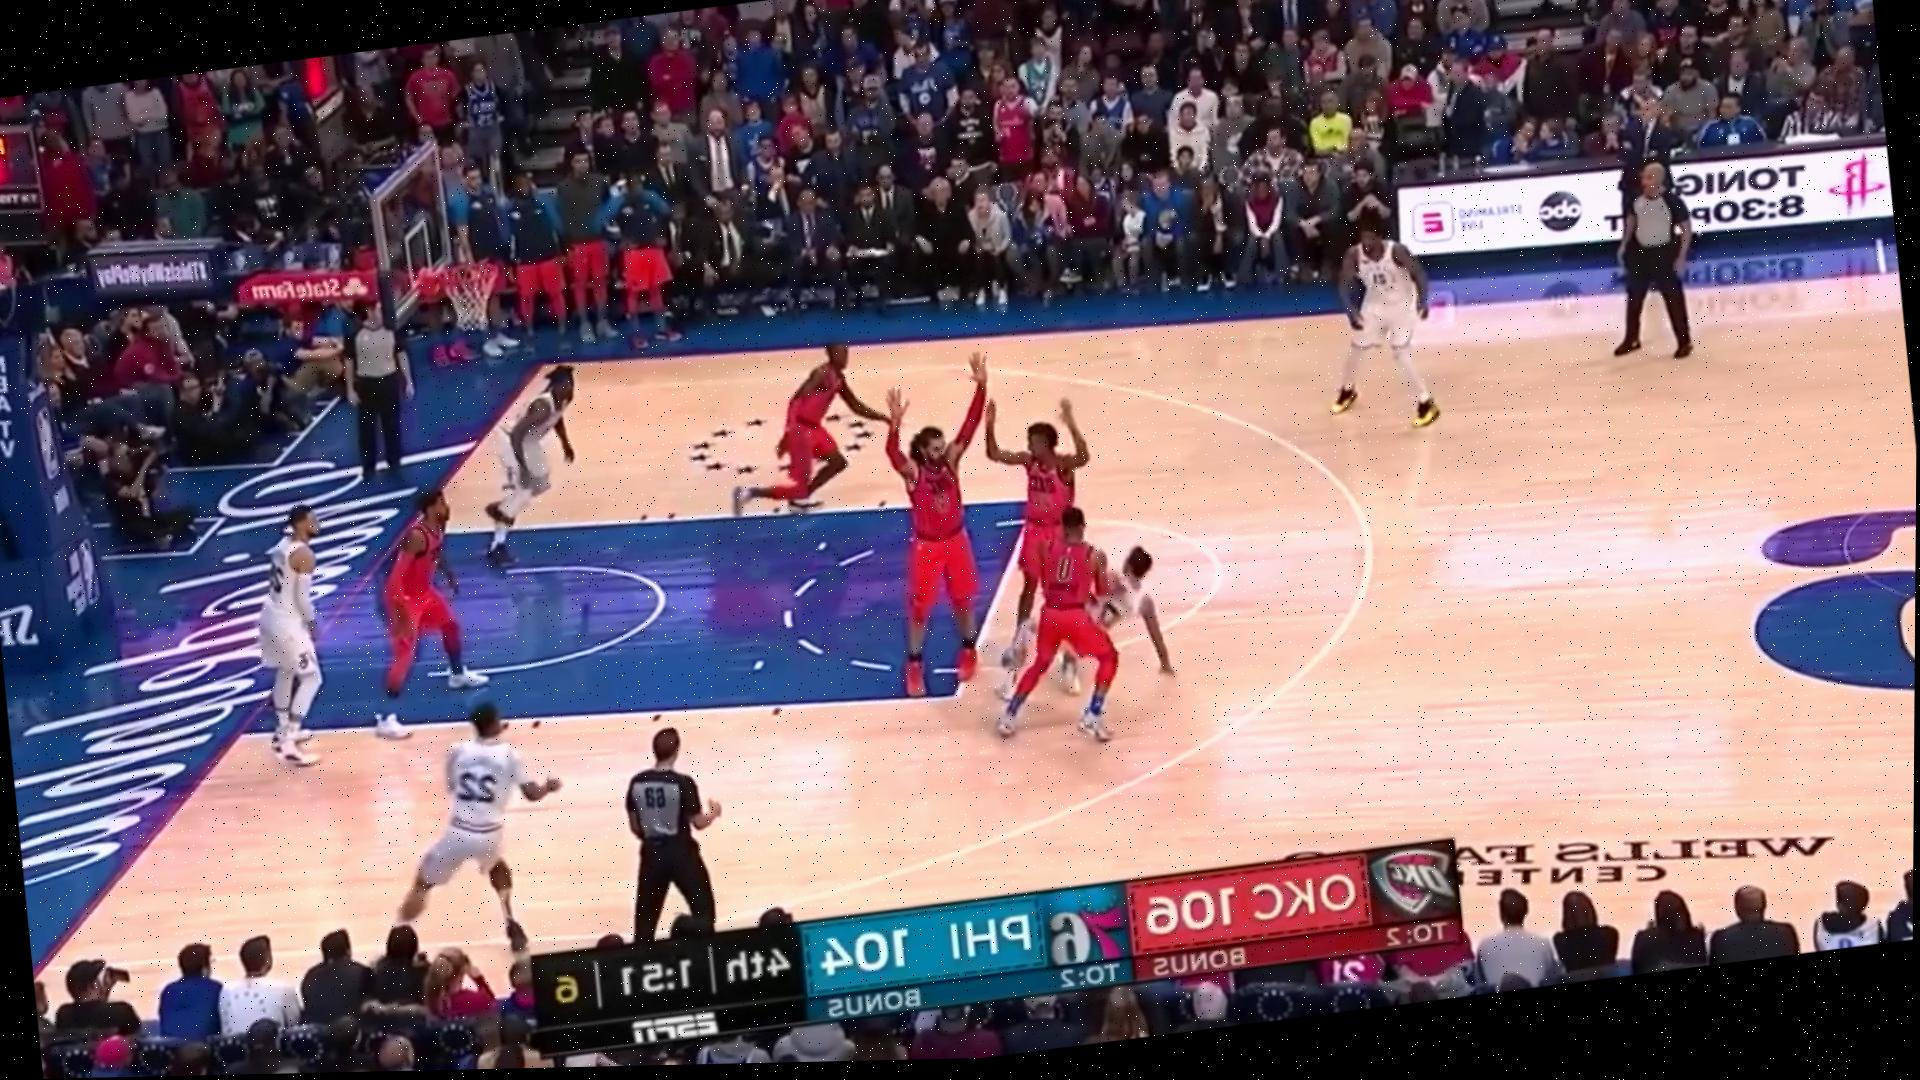foul: (831, 386, 1227, 735)
